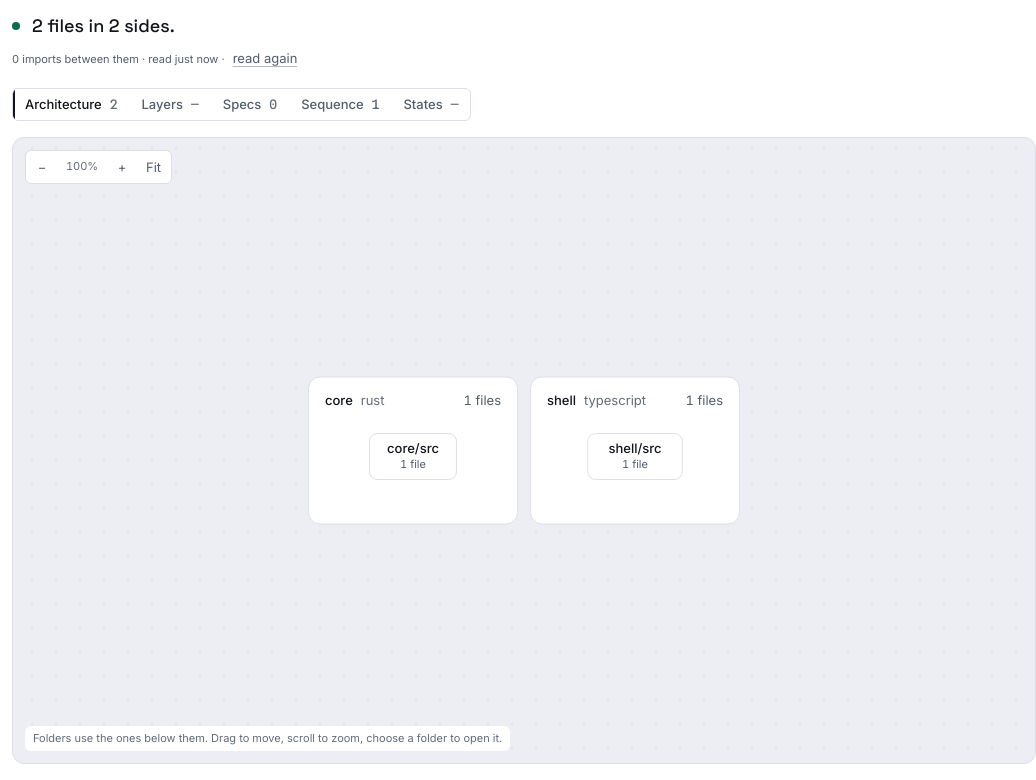
Test case: the sequence door › the Sequence door opens the declared flows
This screenshot has width=1036, height=780.
Click the button "Sequence 1". click: [340, 104]
box: [289, 89, 391, 120]
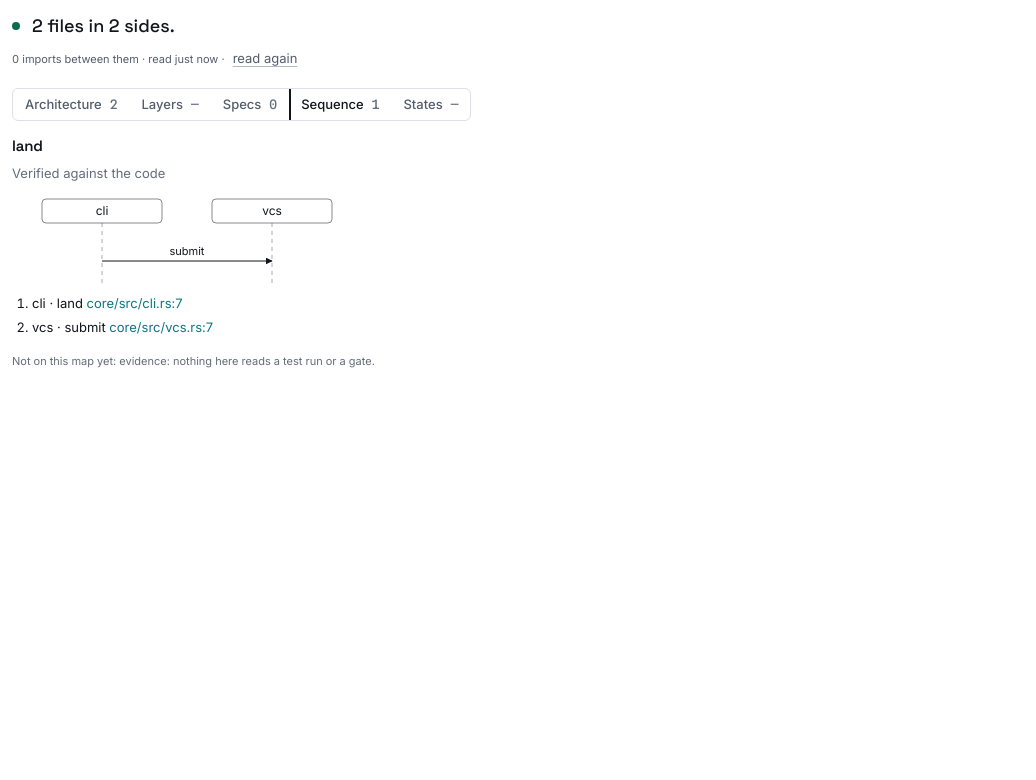
Check: the element named "Flow land" is shown, box [12, 136, 392, 335]
